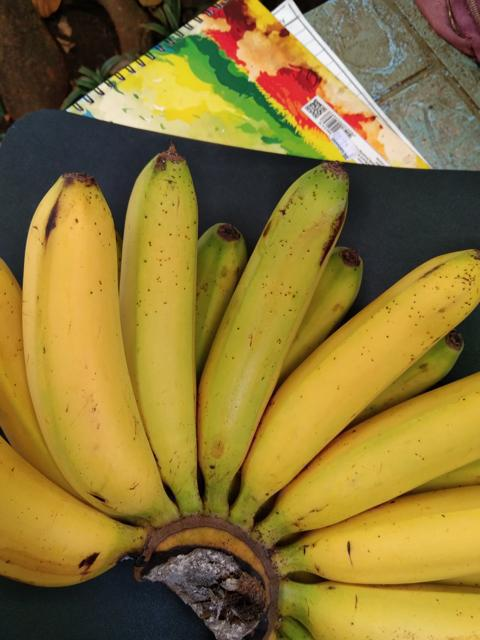freshripe: (243, 250, 479, 484), (13, 166, 168, 498), (119, 136, 212, 476), (280, 368, 479, 521), (281, 480, 479, 589), (0, 449, 133, 597), (300, 565, 479, 639)
ripe: (208, 145, 361, 492)
